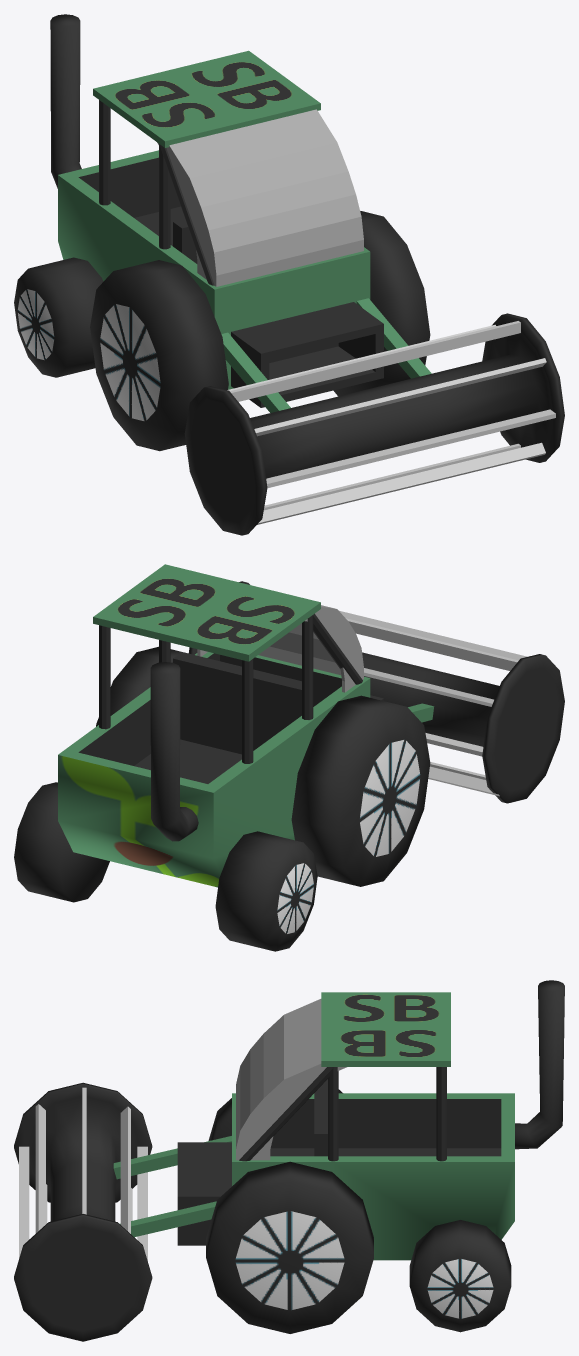
File: harvester2.fbx
3 views of the same model, one above another, from view 1: azimuth 30°, elevation 25°; view 2: azimuth 150°, elevation 25°; view 3: azimuth 270°, elevation 25° (orthographic). The views are drawn at different scales.
Visible parts, largest first — view 1: Blades, Cube, pCube1, polySurface6, Cube.001, polySurface5, polySurface3, chymney, Poles, Cube.002; view 2: Cube, Blades, polySurface6, Cube.001, polySurface5, polySurface2, chymney, Poles, pCube1, polySurface3; view 3: Cube, Blades, polySurface3, Cube.001, polySurface2, pCube1, chymney, Poles, Cube.002, polySurface6.
Part boxes in pixels (bbox=[...]): Blades: bbox=[184, 313, 564, 535]; Cube: bbox=[58, 150, 383, 407]; pCube1: bbox=[157, 109, 363, 286]; polySurface6: bbox=[90, 260, 228, 451]; Cube.001: bbox=[93, 50, 320, 147]; polySurface5: bbox=[14, 257, 103, 377]; polySurface3: bbox=[333, 211, 430, 396]; chymney: bbox=[50, 14, 81, 188]; Poles: bbox=[99, 100, 214, 285]; Cube.002: bbox=[221, 298, 431, 412]; Cube: bbox=[58, 652, 383, 887]; Blades: bbox=[188, 581, 564, 803]; polySurface6: bbox=[291, 695, 430, 886]; Cube.001: bbox=[93, 564, 320, 661]; polySurface5: bbox=[215, 831, 317, 951]; polySurface2: bbox=[14, 782, 109, 902]; chymney: bbox=[150, 662, 198, 841]; Poles: bbox=[99, 613, 362, 763]; pCube1: bbox=[197, 605, 363, 692]; polySurface3: bbox=[96, 646, 192, 726]; Cube: bbox=[177, 1079, 514, 1260]; Blades: bbox=[14, 1082, 152, 1341]; polySurface3: bbox=[206, 1161, 373, 1333]; Cube.001: bbox=[321, 992, 450, 1066]; polySurface2: bbox=[409, 1220, 511, 1332]; pCube1: bbox=[236, 999, 346, 1160]; chymney: bbox=[515, 980, 564, 1149]; Poles: bbox=[239, 1067, 446, 1161]; Cube.002: bbox=[113, 1136, 231, 1237]; polySurface6: bbox=[208, 1089, 342, 1140].
Bounding box in the file's own units: 1170 × 1108 × 2036.
